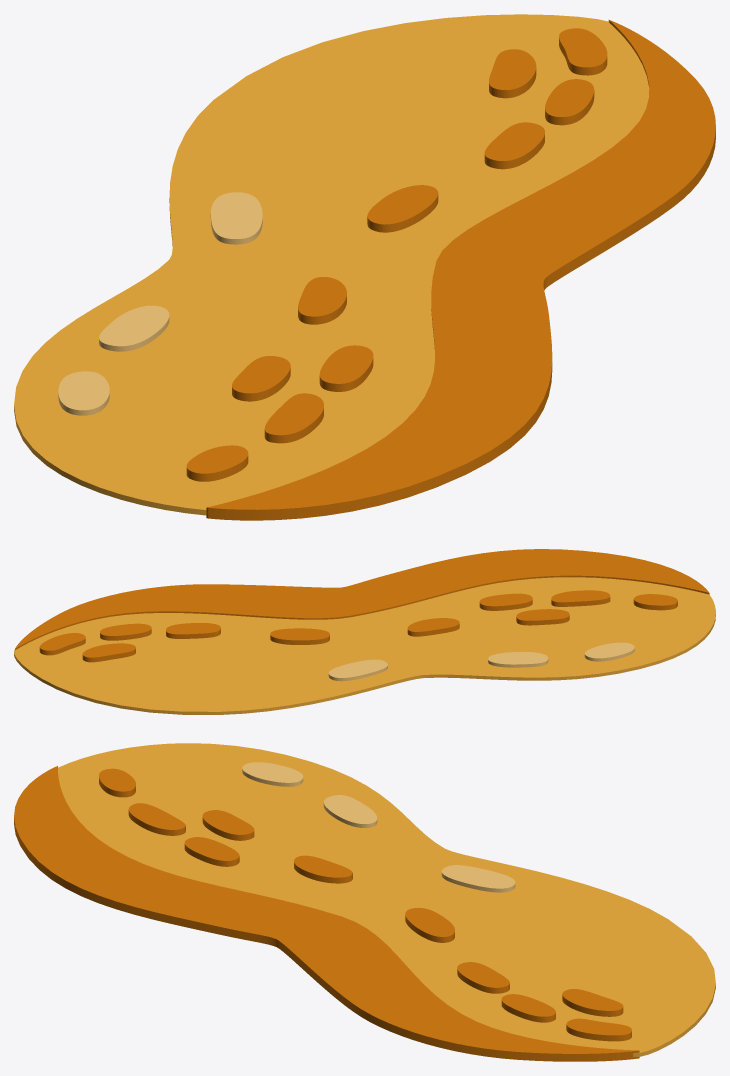
File: emoji_u1f95c.glb
3 renders of one model, top to bottom at view 1: azimuth 30°, elevation 25°; view 2: azimuth 150°, elevation 25°; view 3: azimuth 270°, elevation 25°, orthographic. The views are drawn at different scales.
Visible parts, largest first — view 1: emoji_u1f95c; view 2: emoji_u1f95c; view 3: emoji_u1f95c.
Part boxes in pixels (left/top/right/bottom): emoji_u1f95c: left=14, top=14, right=715, bottom=520; emoji_u1f95c: left=14, top=549, right=715, bottom=714; emoji_u1f95c: left=14, top=743, right=715, bottom=1061.
Bounding box in the file's own units: 0.0341 × 0.0008 × 0.0324.
